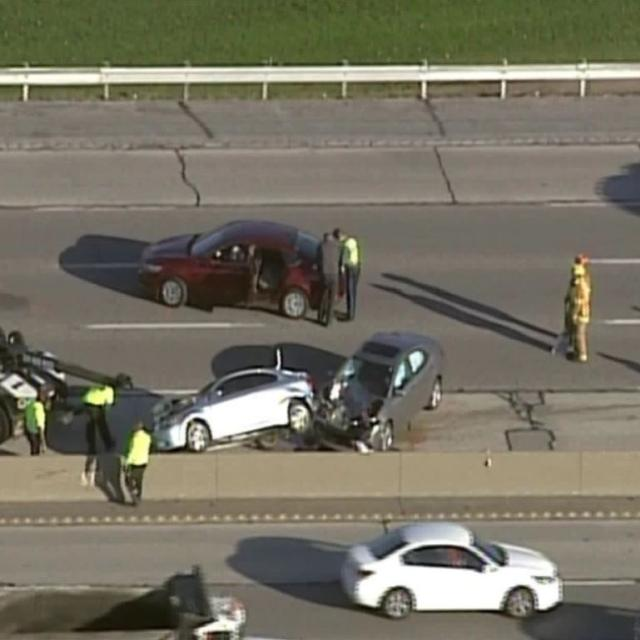traffic_incident: (142, 341, 312, 461), (308, 330, 447, 452)
